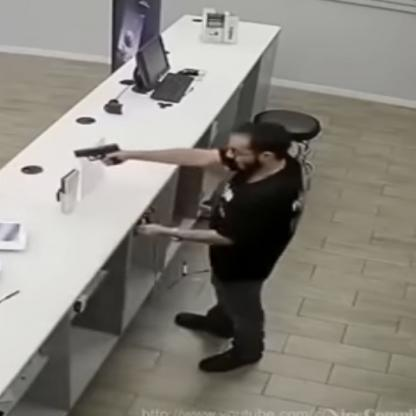criminal: (73, 123, 306, 373)
weapon: (73, 143, 127, 166)
